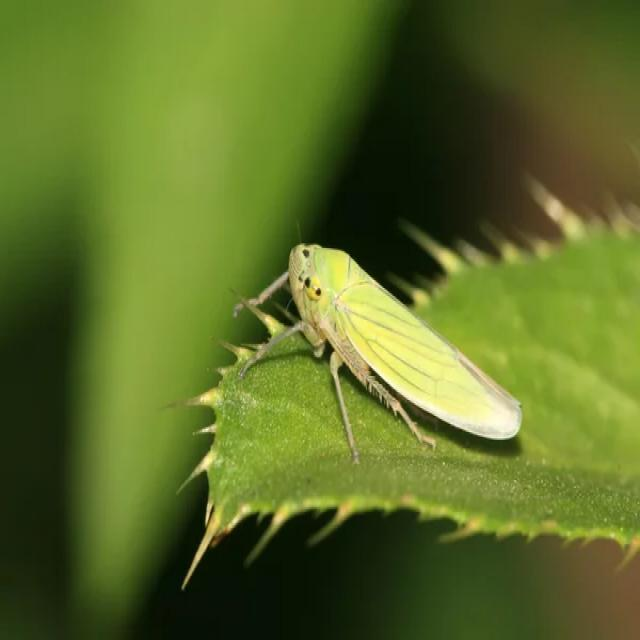Yechan: (265, 225, 537, 476)
